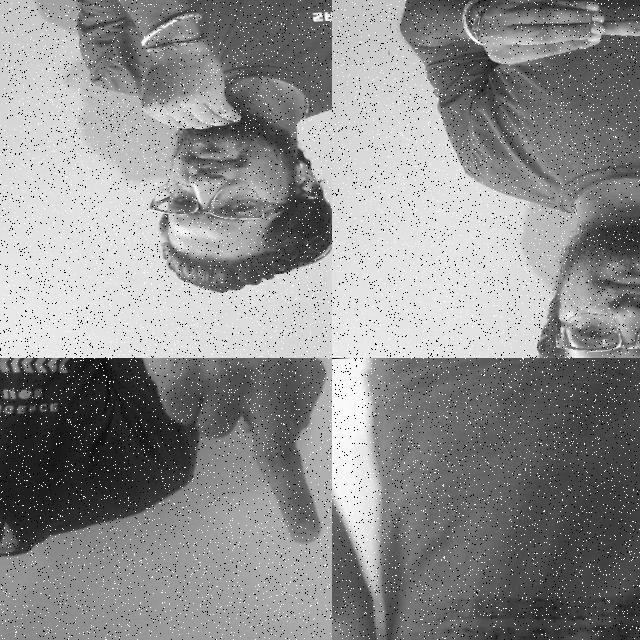Chin Flick: (126, 31, 310, 292)
Five Fathers: (465, 0, 640, 107)
Middle Finger: (121, 358, 332, 559)
